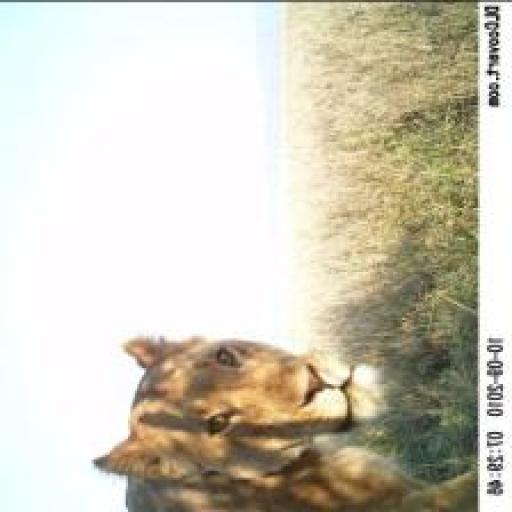lion: (73, 317, 477, 512)
